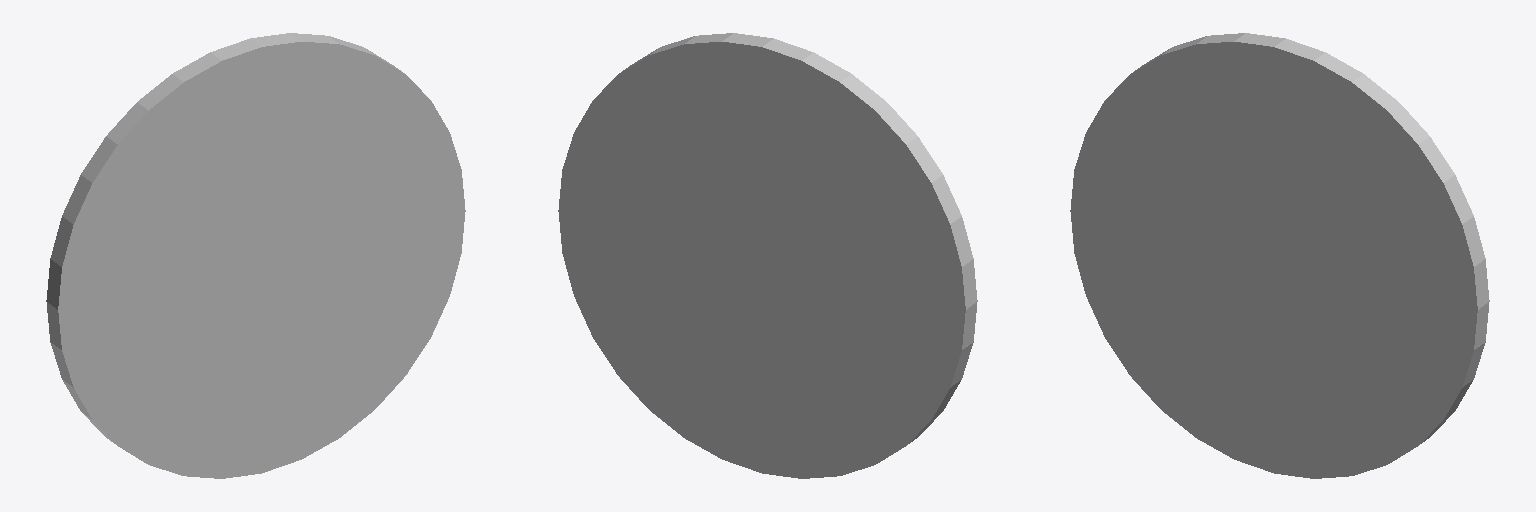
File: coin.obj
3 renders of one model, left to right at view 1: azimuth 30°, elevation 25°; view 2: azimuth 150°, elevation 25°; view 3: azimuth 330°, elevation 25°, orthographic.
Parts seen in each view (by area): view 1: Default; view 2: Default; view 3: Default.
Boxes of the visible parts, x1=… form: Default: x1=46, y1=33, x2=465, y2=478; Default: x1=558, y1=33, x2=977, y2=478; Default: x1=1070, y1=33, x2=1489, y2=478.
Size of the model in its own units: 2 by 2 by 0.1.